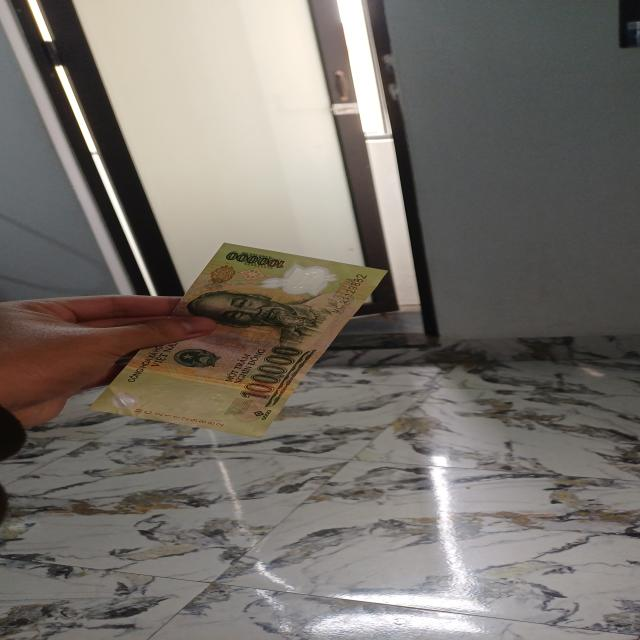100 000 VND: (74, 237, 414, 440)
